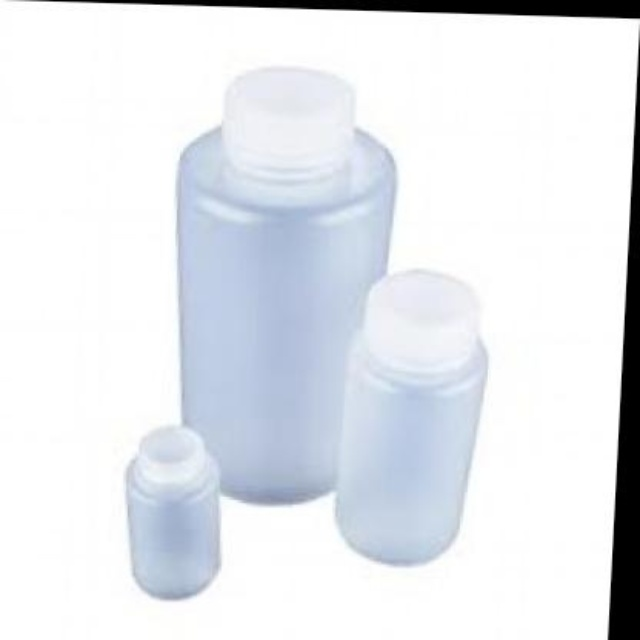trash: (178, 68, 394, 502), (337, 269, 486, 562), (126, 426, 218, 597)
